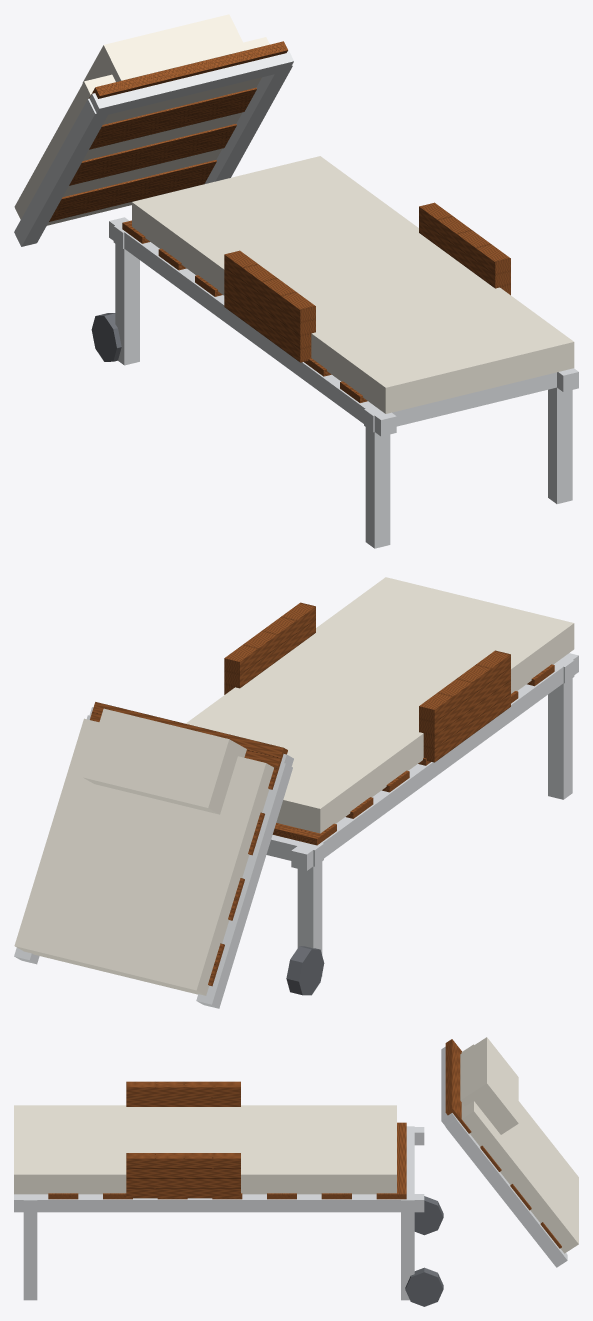
File: cruise-ship-deck-and-lounge-cruise-ship-deck-and-loung-5da6a33d__38436.glb
3 views of the same model, one above another, from view 1: azimuth 30°, elevation 25°; view 2: azimuth 150°, elevation 25°; view 3: azimuth 270°, elevation 25° (orthographic). The views are drawn at different scales.
Parts seen in each view (by area): view 1: cruise-ship-deck-and-lounge-sun-lounger-reclined; view 2: cruise-ship-deck-and-lounge-sun-lounger-reclined; view 3: cruise-ship-deck-and-lounge-sun-lounger-reclined.
Boxes of the visible parts, x1,y1,x2,y2 form: cruise-ship-deck-and-lounge-sun-lounger-reclined: (14, 14, 578, 548); cruise-ship-deck-and-lounge-sun-lounger-reclined: (14, 577, 578, 1008); cruise-ship-deck-and-lounge-sun-lounger-reclined: (14, 1037, 578, 1306).
Size of the model in its own units: 0.6699 by 0.8417 by 2.07.
4 materials, 1 textured.
